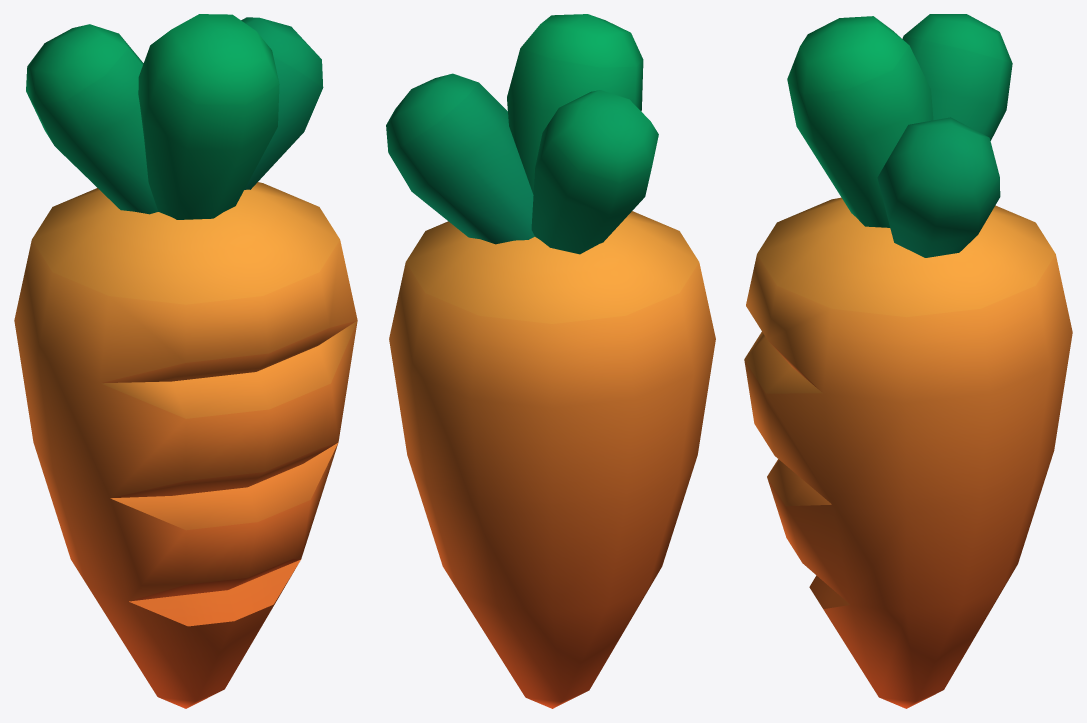
Rendered from Carrot.glb.
3 renders of one model, left to right at view 1: azimuth 30°, elevation 25°; view 2: azimuth 150°, elevation 25°; view 3: azimuth 270°, elevation 25°, orthographic. The views are drawn at different scales.
Parts seen in each view (by area): view 1: food_ingredient_carrot; view 2: food_ingredient_carrot; view 3: food_ingredient_carrot.
Part boxes in pixels (x1,y1,x2,y2): food_ingredient_carrot: (14,14,357,708); food_ingredient_carrot: (386,14,715,708); food_ingredient_carrot: (744,14,1072,708).
Size of the model in its own units: 0.56 by 1.27 by 0.5529.
Materials: 1 (1 with a texture image).
